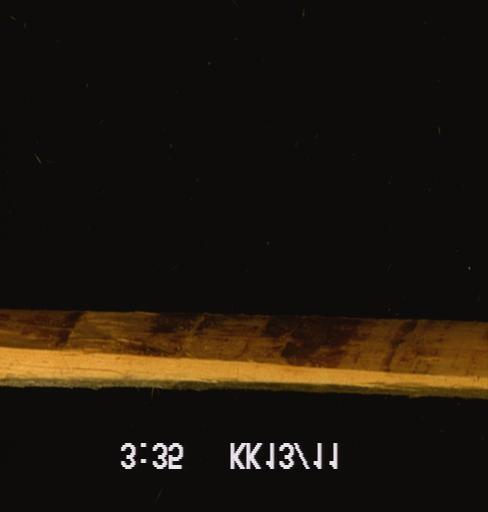wave: (0, 322, 487, 387)
